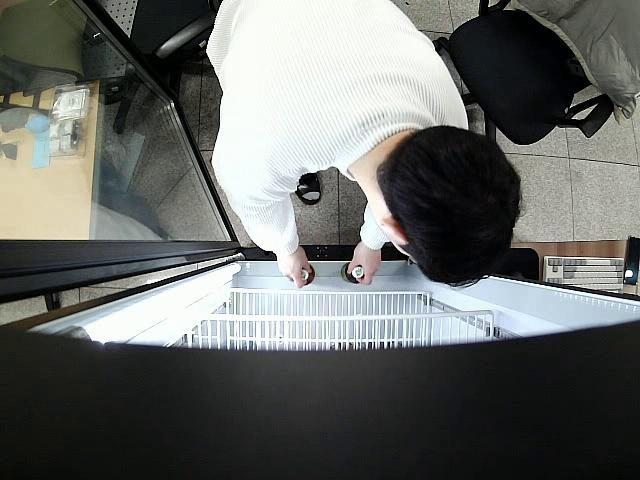19_17cha: (341, 262, 363, 284), (302, 264, 314, 286)
